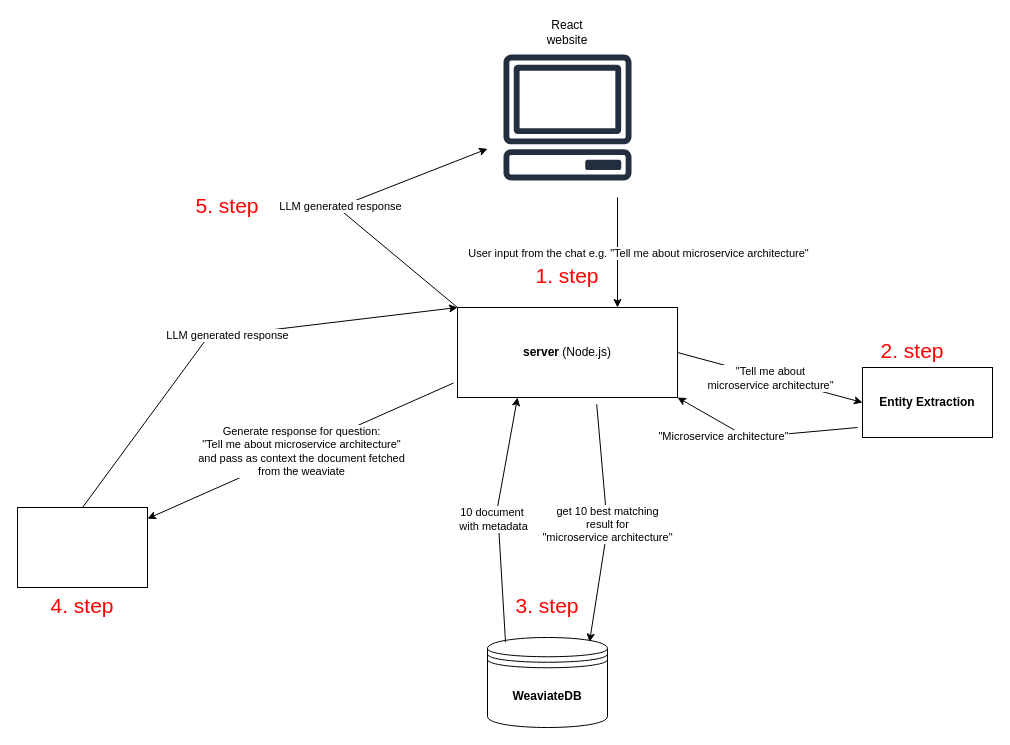
This 1010x745 diagram has some shape labels left out. Each missing label, with the box of its shape:
Chat UI: (486, 36, 648, 198)
OpenAI LLM: (16, 506, 148, 588)
